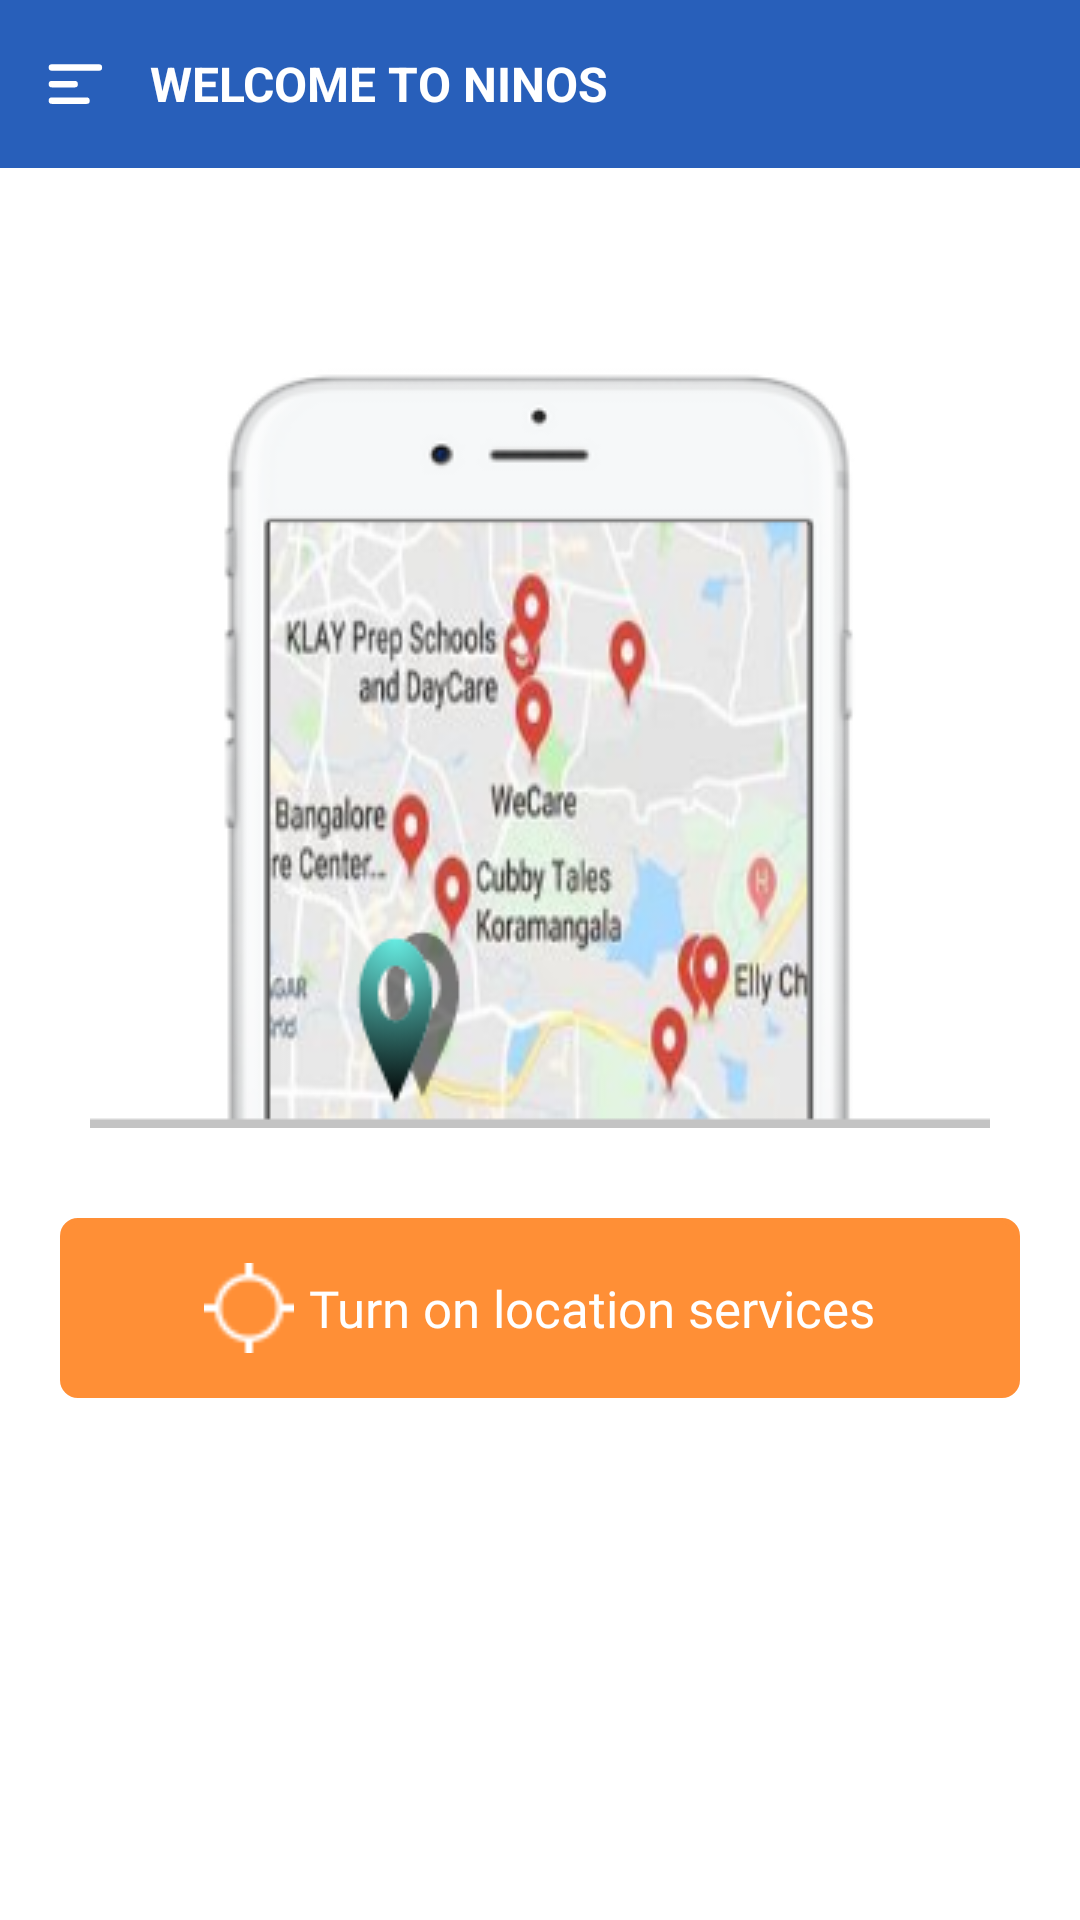

Screen size 1080w x 1920h. Icon name, then its box in pixels as (x1=x1, y1=y1, x2=x2, y2=y2):
menu: (x1=48, y1=64, x2=102, y2=104)
